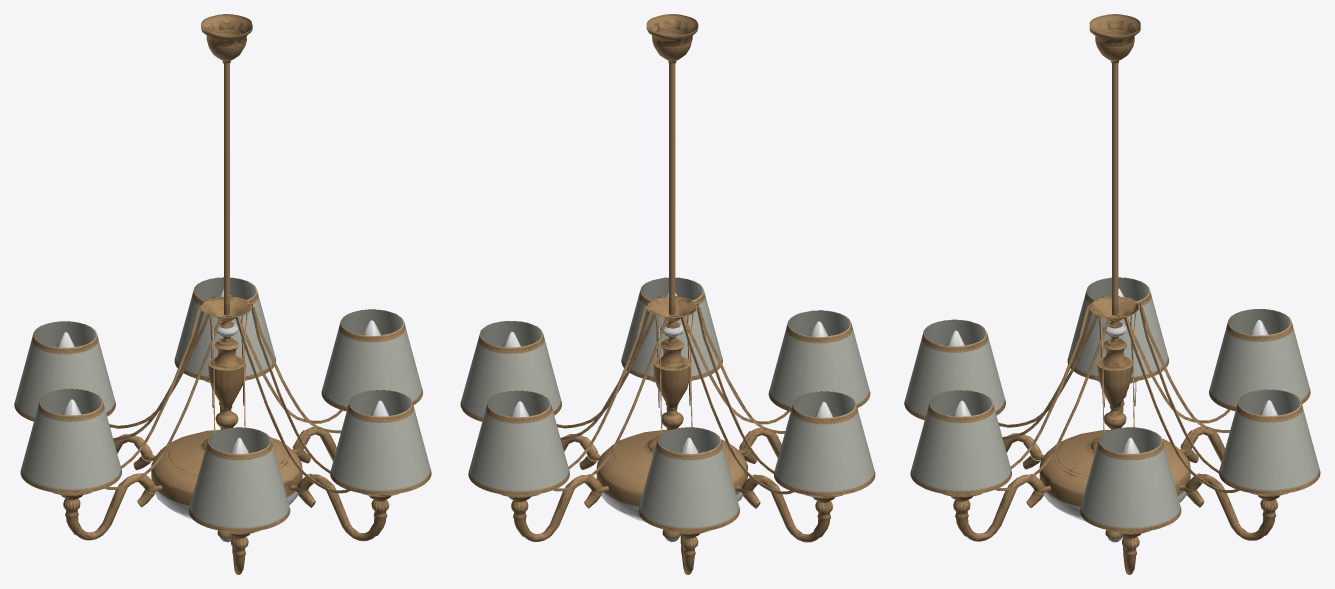
The model's file is chandelier.glb.
The picture shows the model from 3 angles, left to right: view 1: azimuth 30°, elevation 25°; view 2: azimuth 150°, elevation 25°; view 3: azimuth 270°, elevation 25°; orthographic projection.
Visible parts, largest first — view 1: Chandelier_02; view 2: Chandelier_02; view 3: Chandelier_02.
Boxes of the visible parts, x1,y1,x2,y2 form: Chandelier_02: (14, 14, 431, 574); Chandelier_02: (460, 14, 875, 574); Chandelier_02: (904, 14, 1320, 574).
Bounding box in the file's own units: 0.4804 × 0.6 × 0.438.
Materials: 2 (1 with a texture image).
